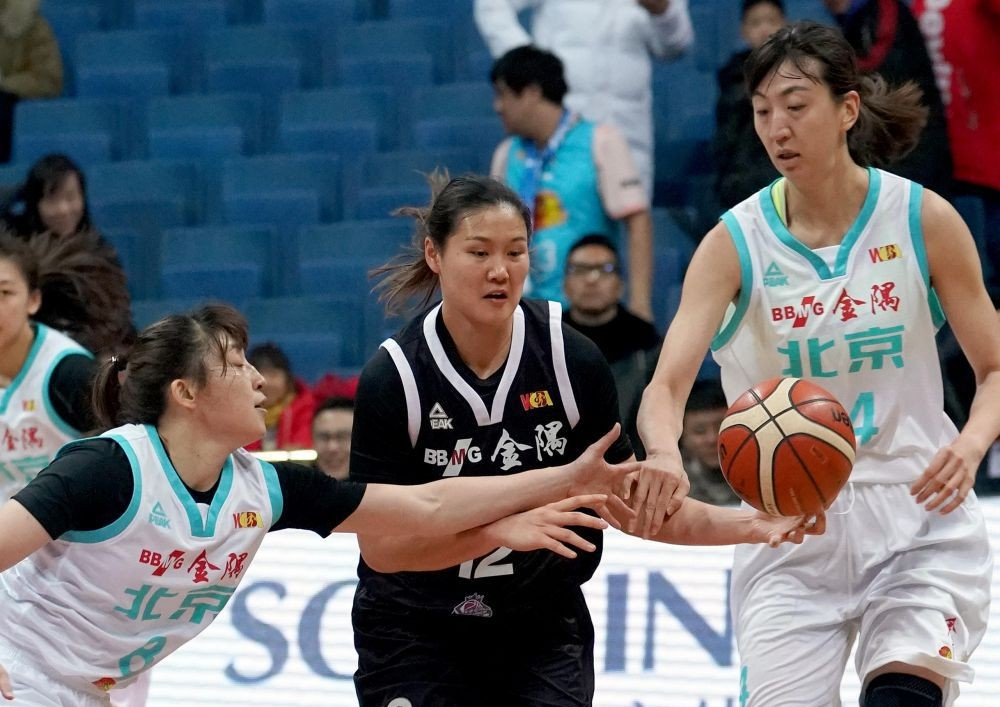ball: (716, 377, 856, 517)
